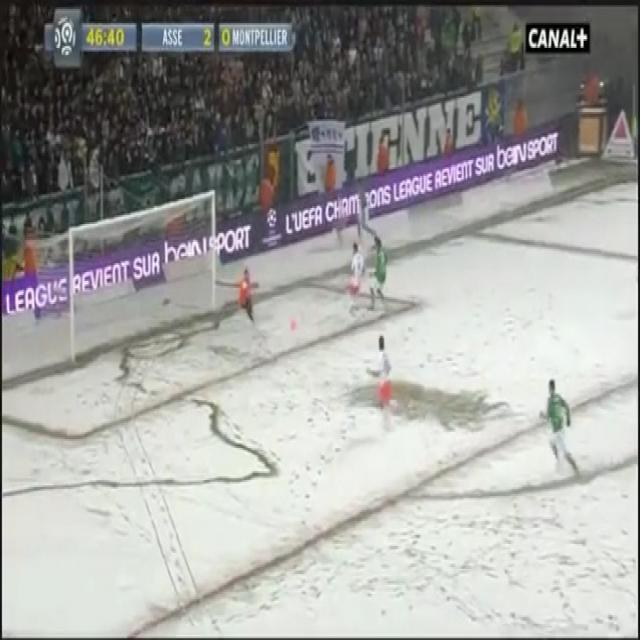ball: (278, 303, 310, 356)
goalkeeper: (222, 250, 265, 340)
player: (531, 357, 589, 505), (366, 326, 407, 468), (367, 222, 404, 317), (334, 224, 366, 317)
